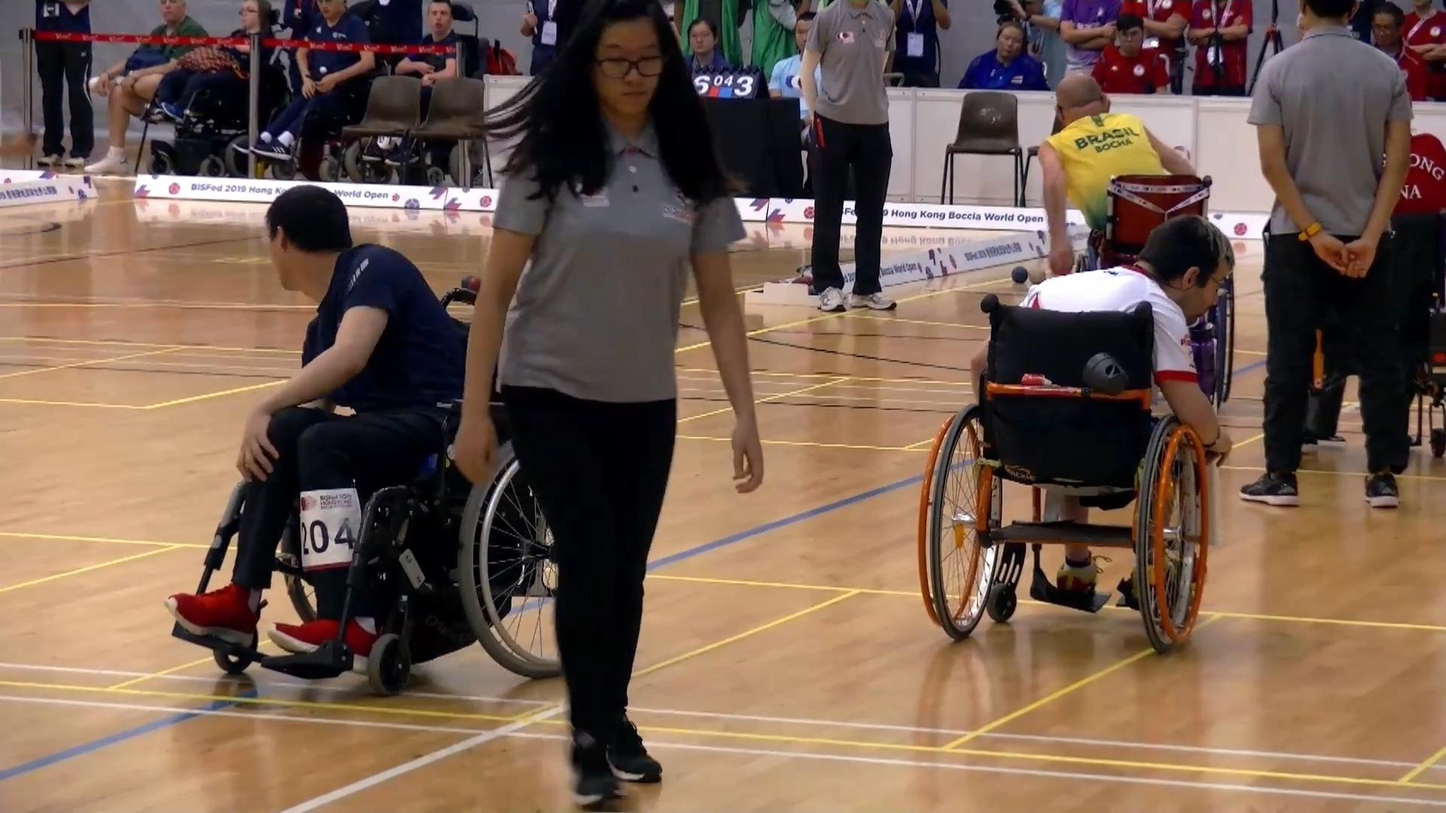blue_ball: (1012, 265, 1029, 286)
white_ball: (1029, 265, 1046, 285)
